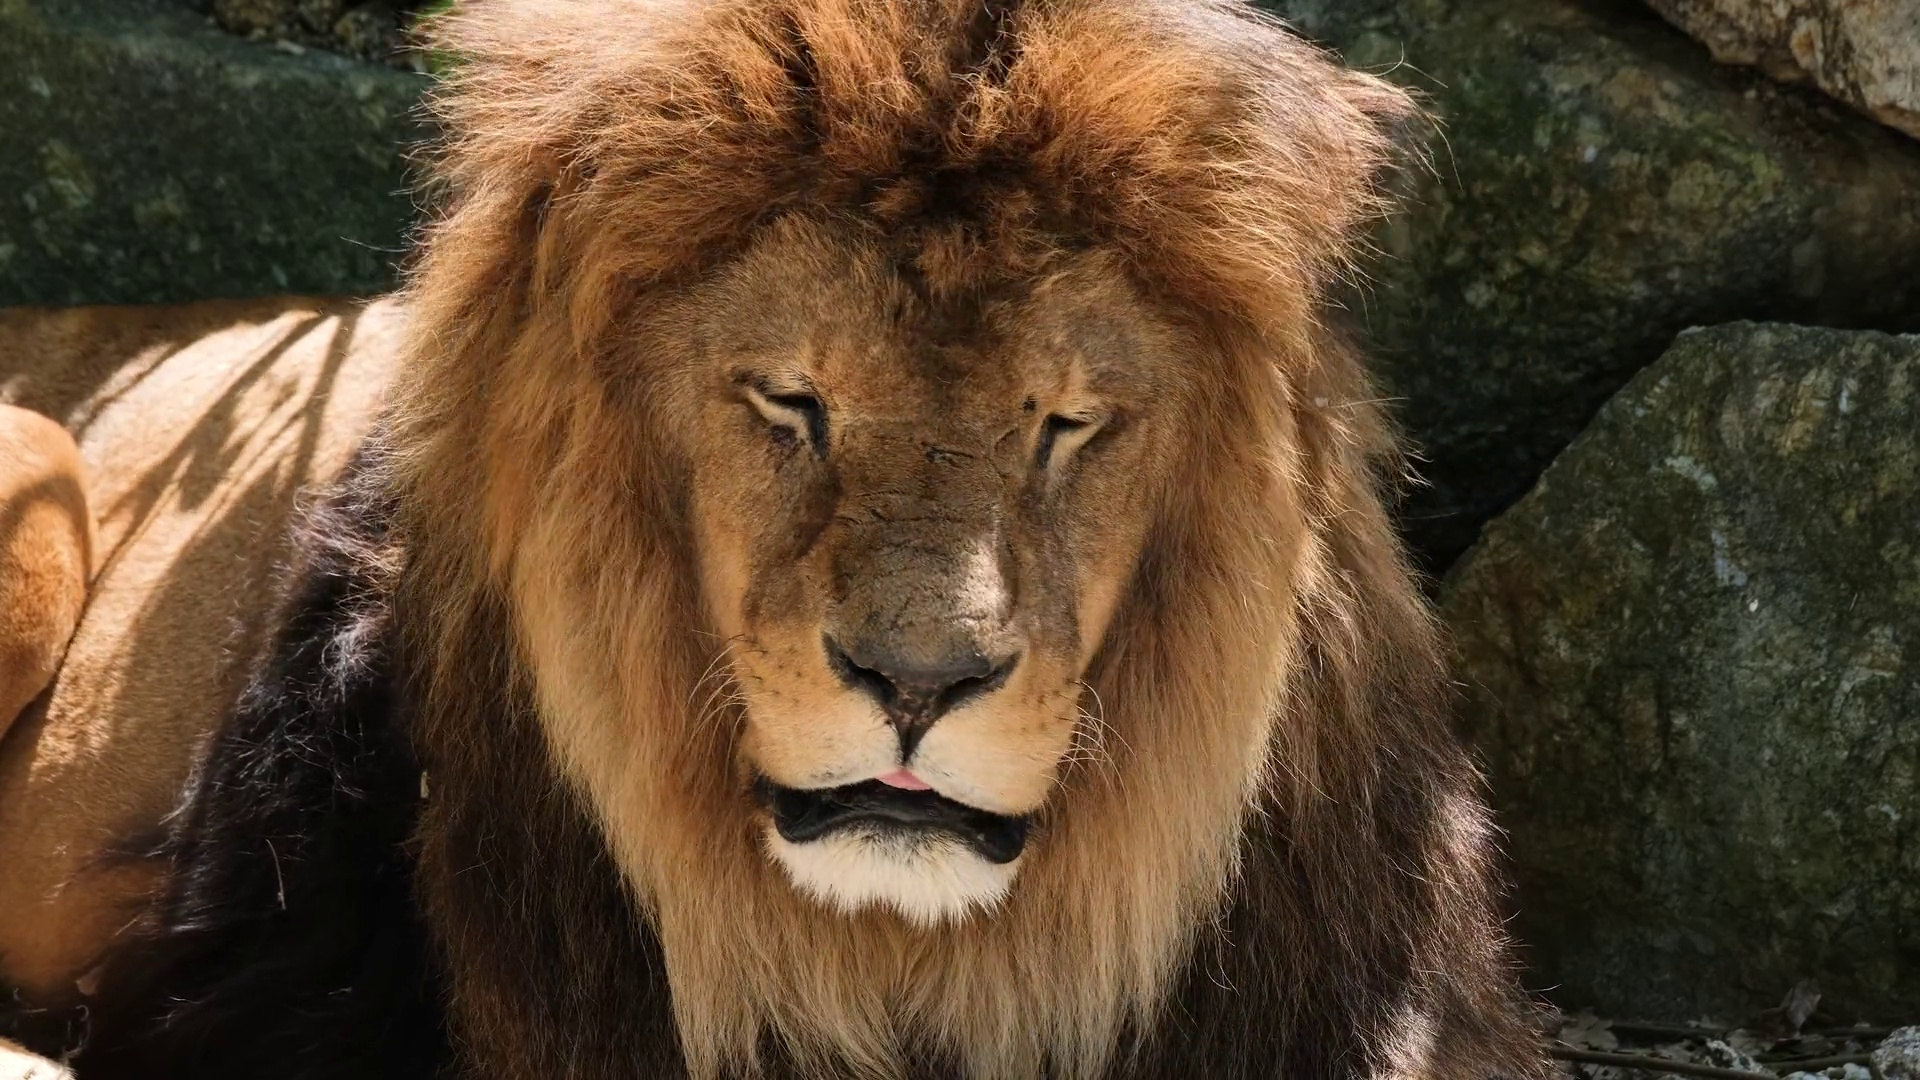Lion: (4, 4, 1557, 1080)
